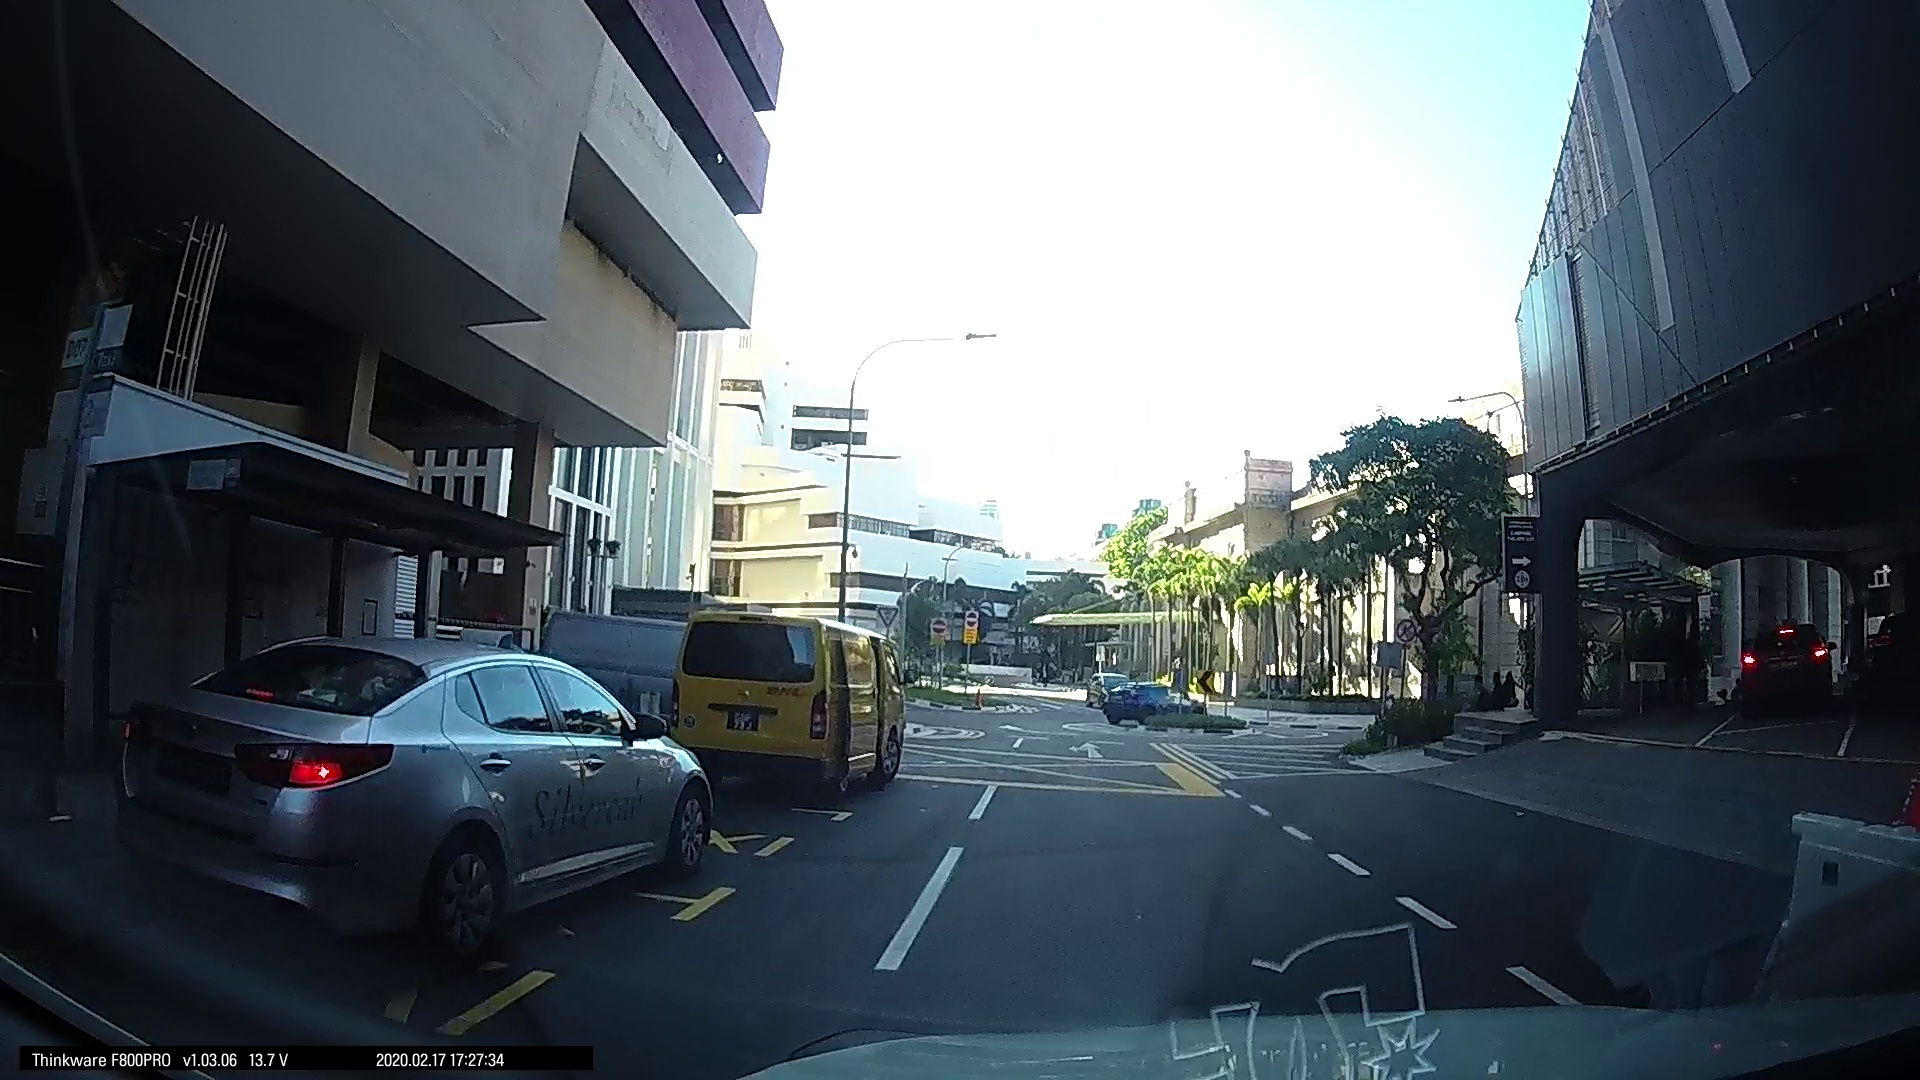Light Vehicle: (108, 625, 717, 953), (662, 600, 902, 800), (1724, 603, 1849, 709)
